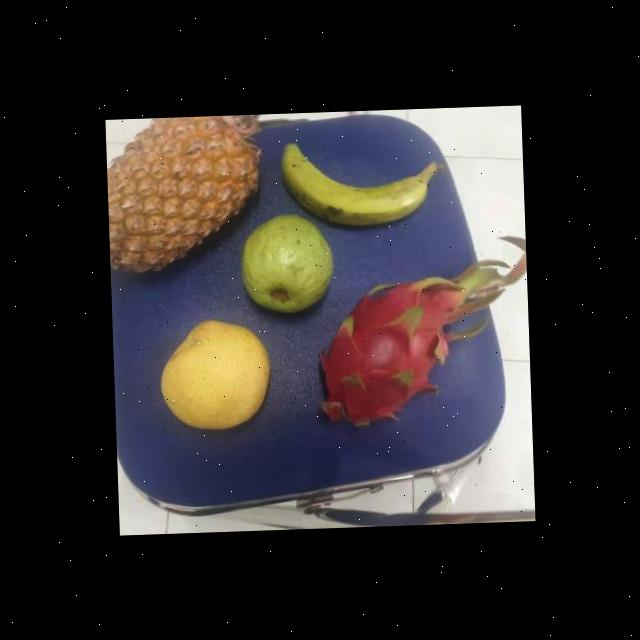banana: (272, 138, 429, 232)
guava: (236, 213, 334, 313)
pear: (154, 316, 272, 431)
pineapple: (105, 115, 260, 276)
pitaya: (309, 276, 468, 429)
